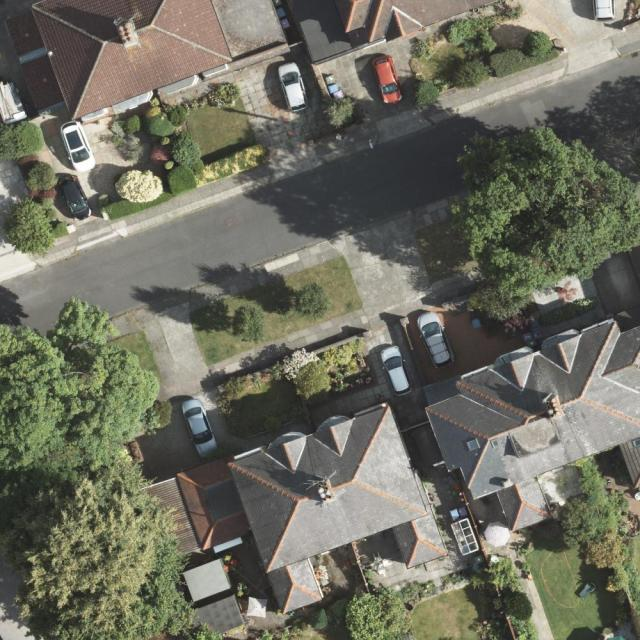roof: (132, 398, 449, 614), (423, 315, 640, 530), (1, 0, 295, 128), (291, 0, 502, 70)
skylight: (465, 437, 481, 452), (488, 438, 501, 452), (630, 437, 640, 449)
